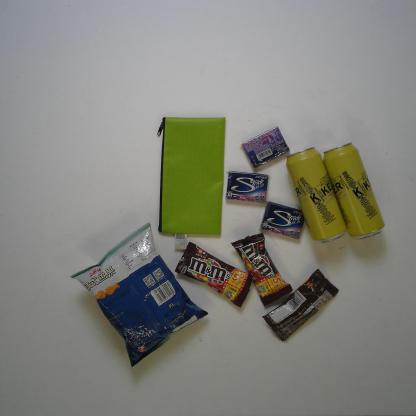Alcohol: (323, 140, 391, 243), (285, 142, 348, 245)
Chocolate: (258, 266, 340, 346), (175, 239, 253, 309), (232, 233, 292, 307)
Gum: (241, 124, 291, 171), (259, 199, 307, 243), (224, 166, 273, 206)
Puffed Food: (64, 222, 221, 380)
Stationery: (149, 112, 234, 238)
